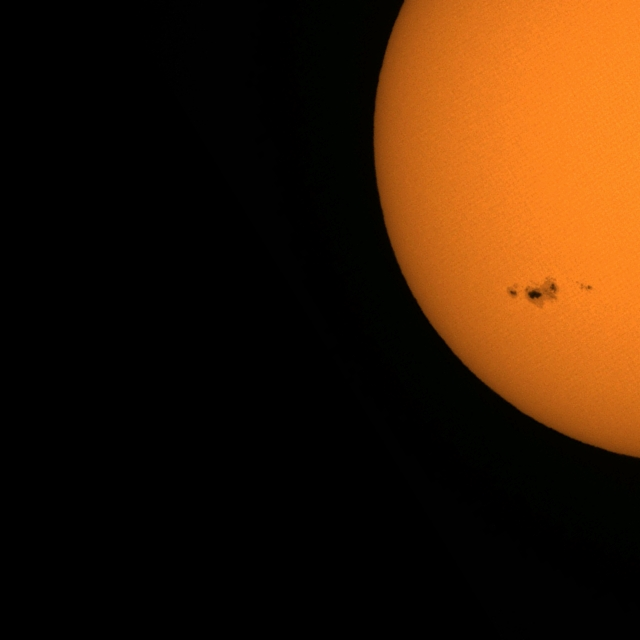sunspot: (505, 276, 566, 310), (576, 281, 594, 292)
